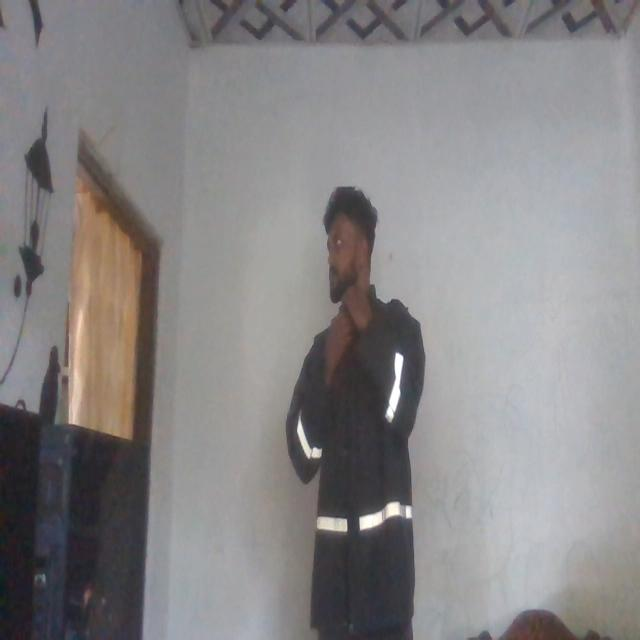Jacket_Wearer: (284, 291, 424, 628)
Person: (280, 185, 438, 640)
